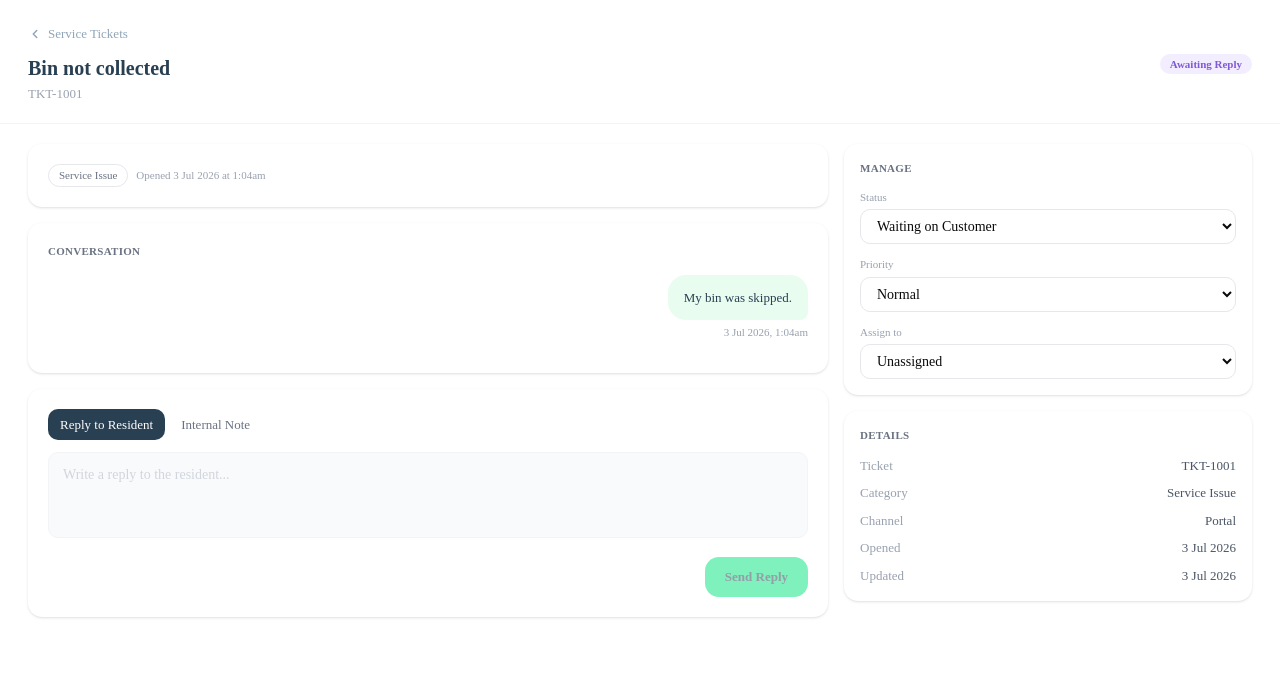
Test: admin ticket page — resident reply email outcome › shows when the email didn’t send, and Resend clears it once it goes out
This screenshot has width=1280, height=699.
Step 1. Type "We will collect it tomorrow." into the text box with placeholder "Write a reply to the resident..." → (428, 495), box [48,452,808,538]
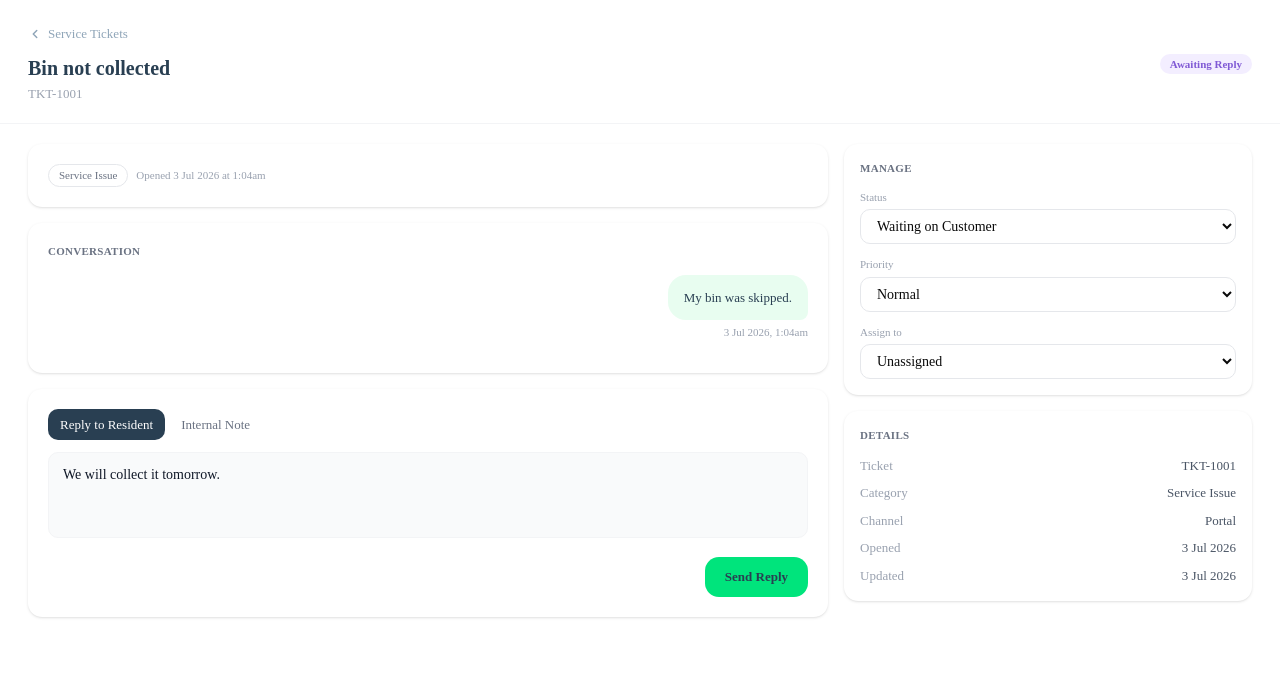
Step 2. Click the button "Send Reply" → click(756, 577), box [705,557,808,597]
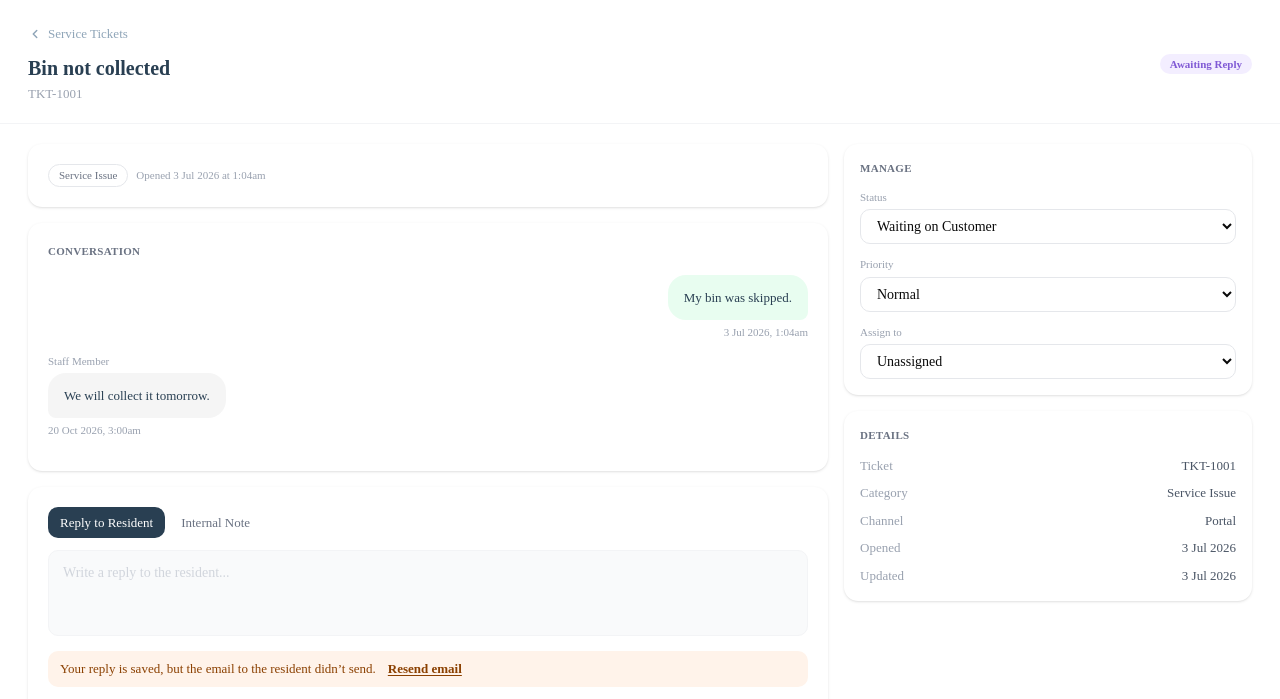
Result: the text "the email to the resident didn’t send" is shown at [60,661,376,676]
Step 3. Click the button "Resend email" → click(425, 669), box [388,659,462,679]
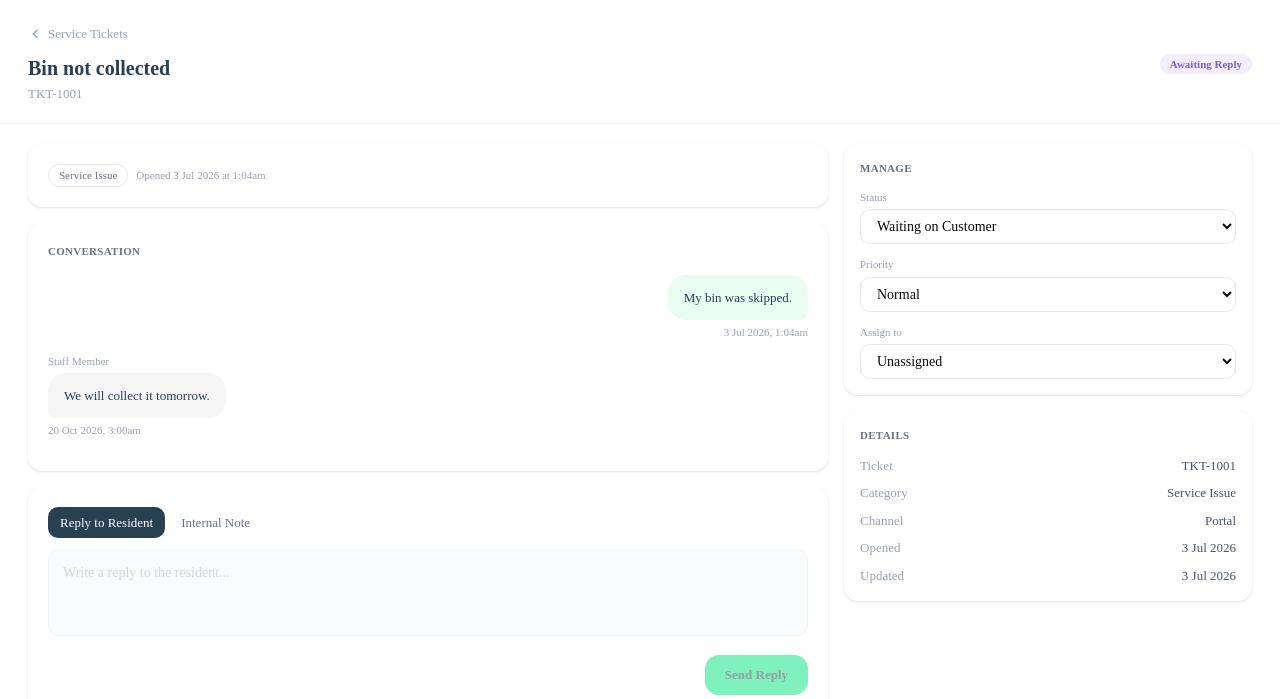
Result: the text "didn’t send" is gone
